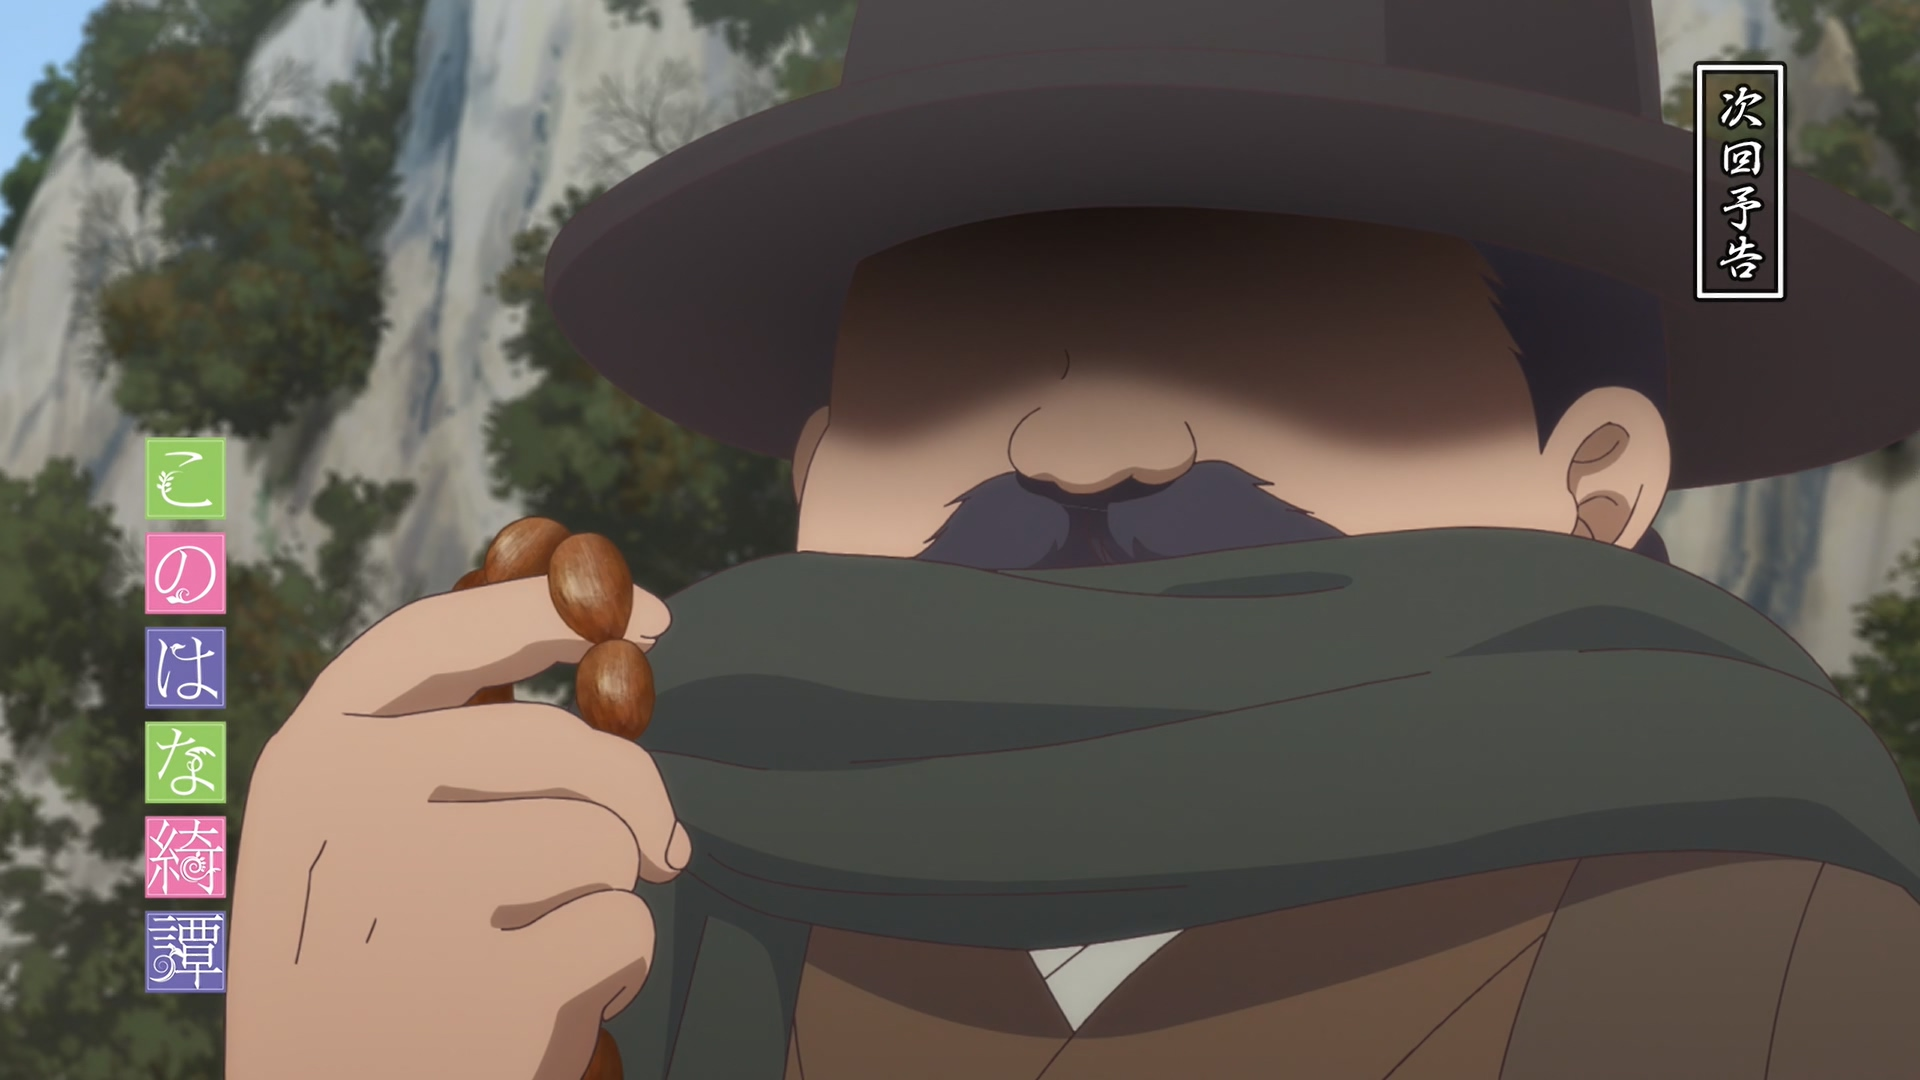其他: (224, 1, 1920, 1080)
